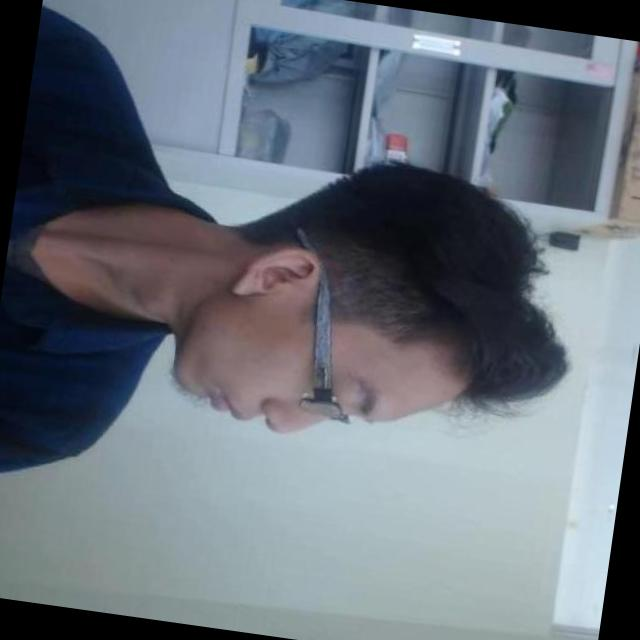bareface: (148, 147, 524, 480)
